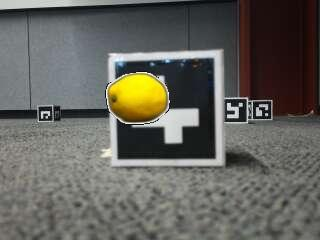lemon: (109, 74, 167, 123)
